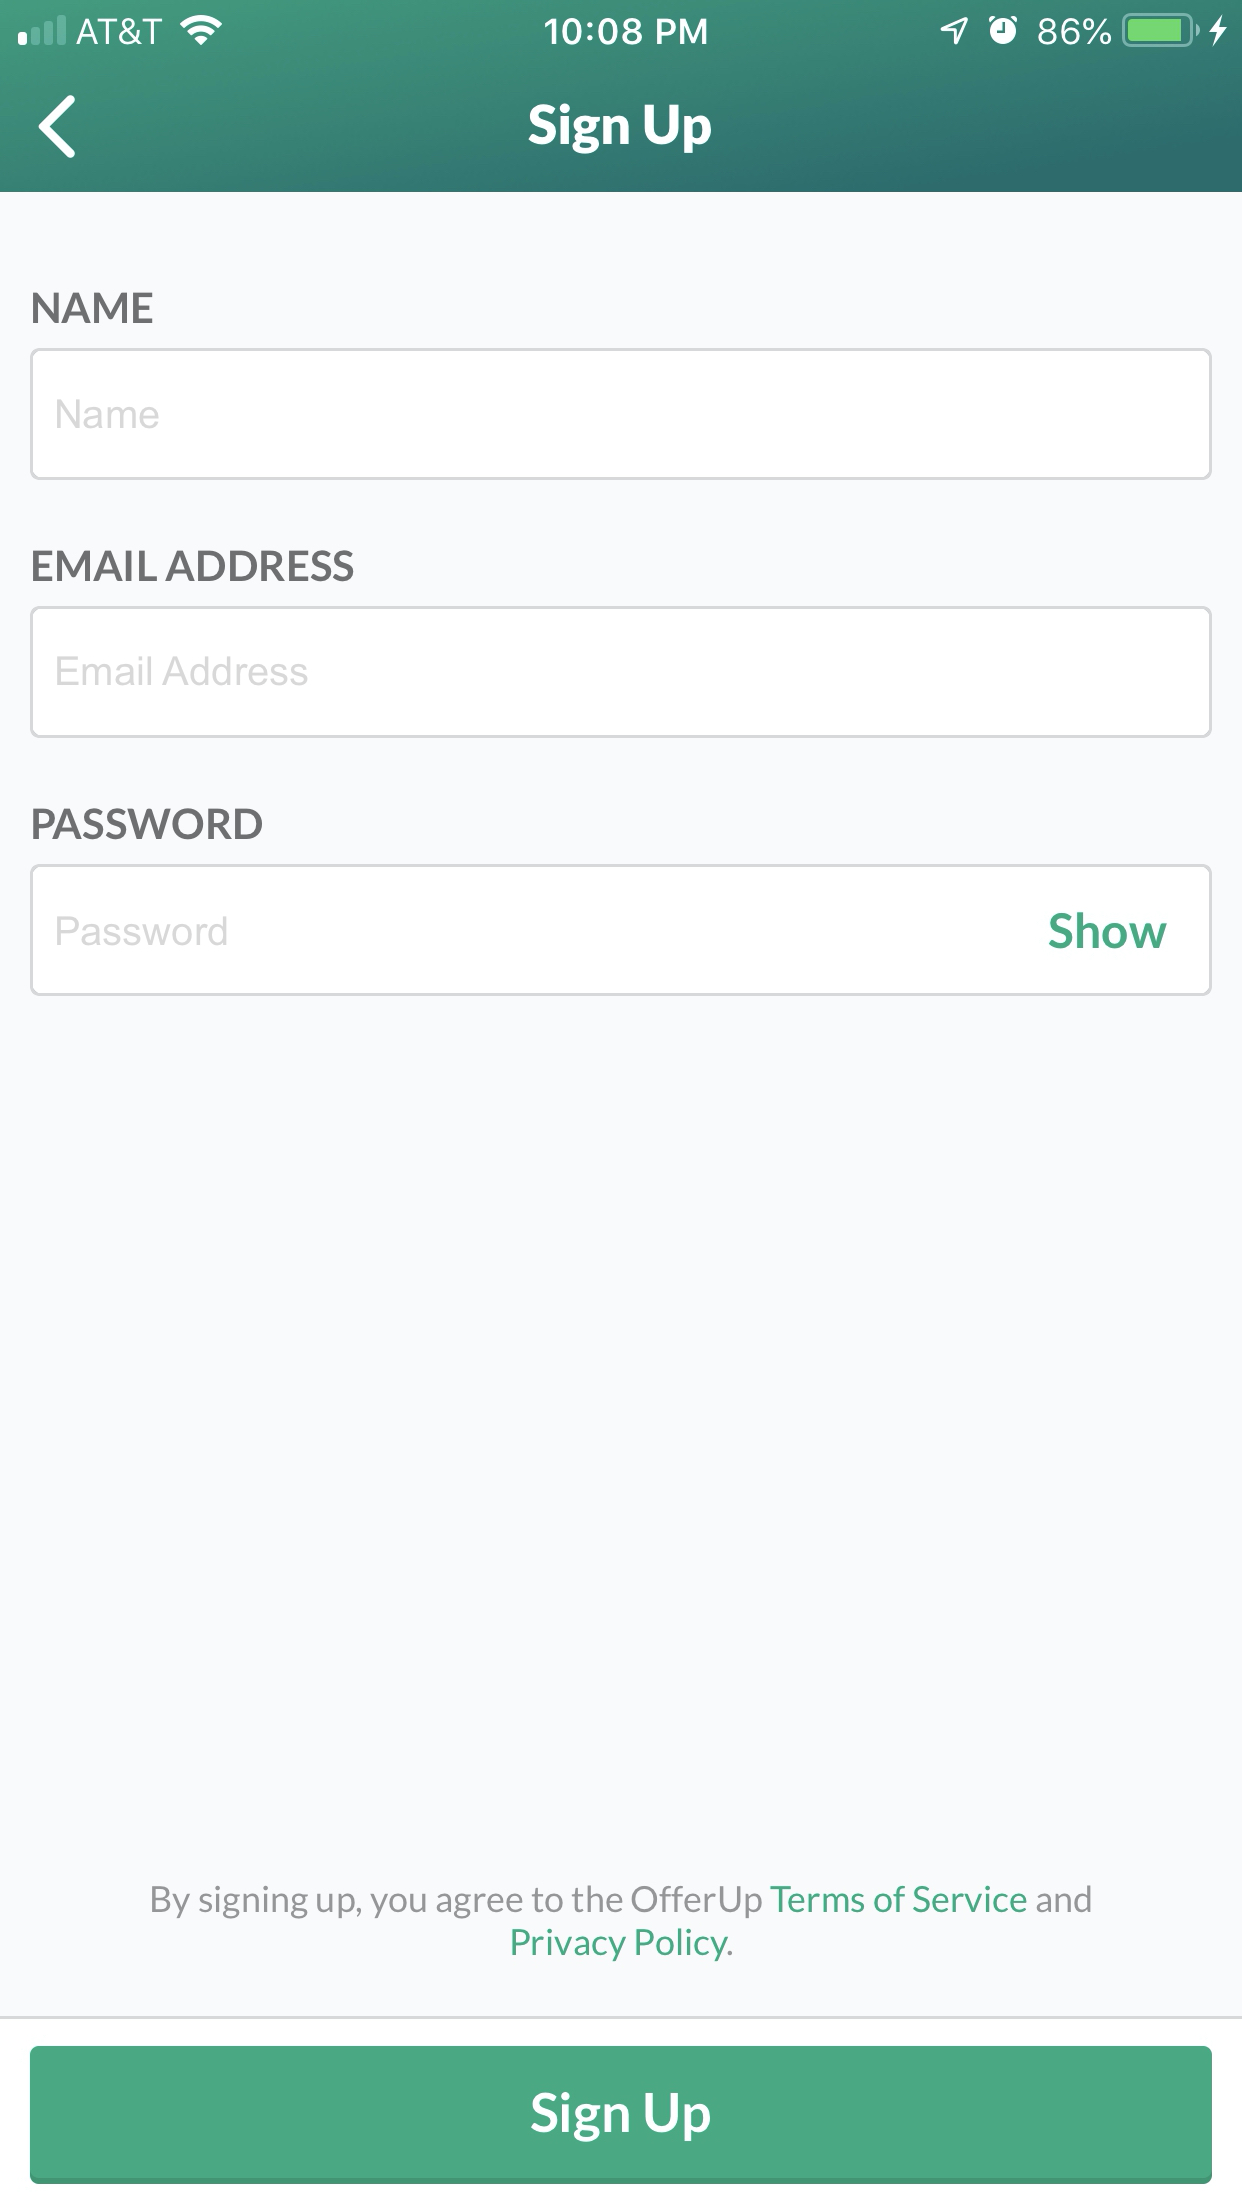EditText: (30, 347, 1212, 481), (30, 864, 1212, 996), (30, 607, 1212, 739)
Icon: (39, 96, 76, 159)
Text: (152, 1885, 1092, 1962), (33, 550, 355, 582), (528, 103, 713, 156), (33, 808, 262, 842), (58, 657, 309, 687), (58, 916, 227, 946), (1049, 911, 1168, 949), (33, 293, 155, 325), (58, 399, 161, 431)
TextButton: (30, 2046, 1212, 2185)
UpperTaskBar: (2, 2, 1242, 49)
